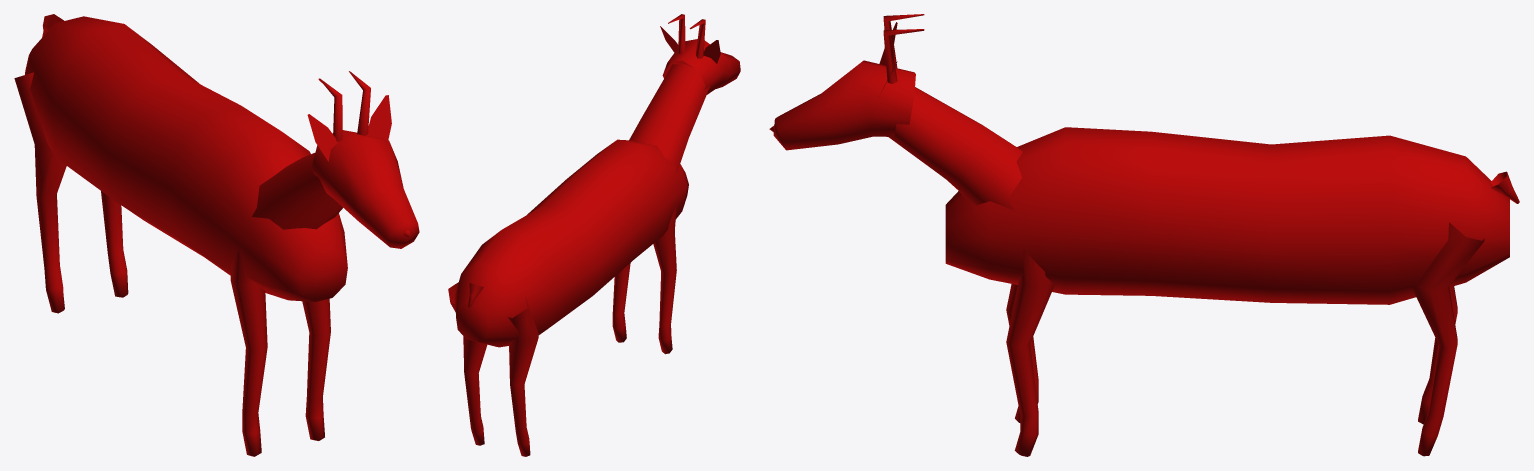
File: ibex.glb
3 views of the same model, side by side, from view 1: azimuth 30°, elevation 25°; view 2: azimuth 150°, elevation 25°; view 3: azimuth 270°, elevation 25° (orthographic). The views are drawn at different scales.
Parts seen in each view (by area): view 1: body, head, leg_lh, leg_lf, leg_rf, leg_rh; view 2: body, head, leg_lh, leg_lf, leg_rh, leg_rf; view 3: body, head, leg_rh, leg_rf, leg_lh.
Part boxes in pixels (<box>): body: <box>25,16,347,301</box>; head: <box>252,71,419,248</box>; leg_lh: <box>14,72,66,313</box>; leg_lf: <box>230,249,267,456</box>; leg_rf: <box>302,298,330,440</box>; leg_rh: <box>101,191,128,297</box>; body: <box>455,139,688,347</box>; head: <box>629,14,740,173</box>; leg_lh: <box>507,296,538,456</box>; leg_lf: <box>653,203,676,354</box>; leg_rh: <box>448,282,487,445</box>; leg_rf: <box>612,263,630,342</box>; body: <box>945,127,1509,304</box>; head: <box>769,14,1022,210</box>; leg_rh: <box>1412,222,1484,456</box>; leg_rf: <box>1006,249,1054,456</box>; leg_lh: <box>1418,286,1457,424</box>.
Bounding box in the file's own units: 0.375 × 1.28 × 2.08.
